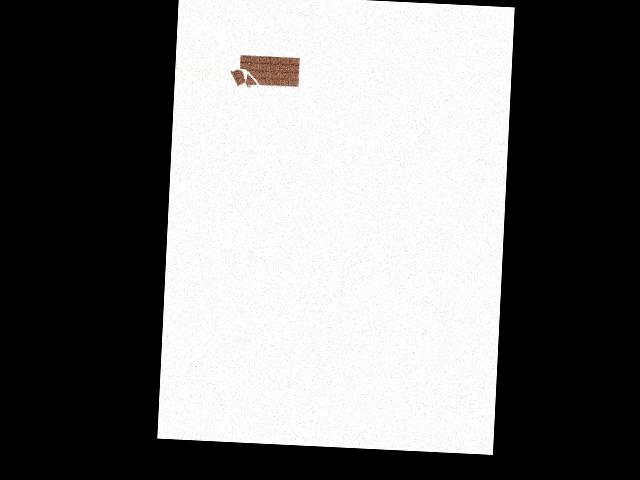chocolate: (229, 49, 301, 96)
